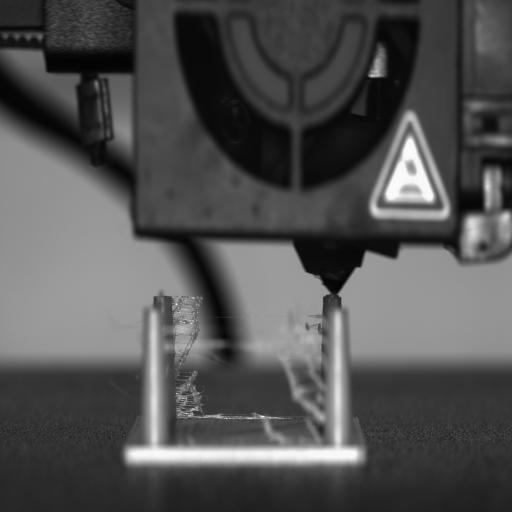spaghetti_and_stringing: (129, 292, 330, 442)
